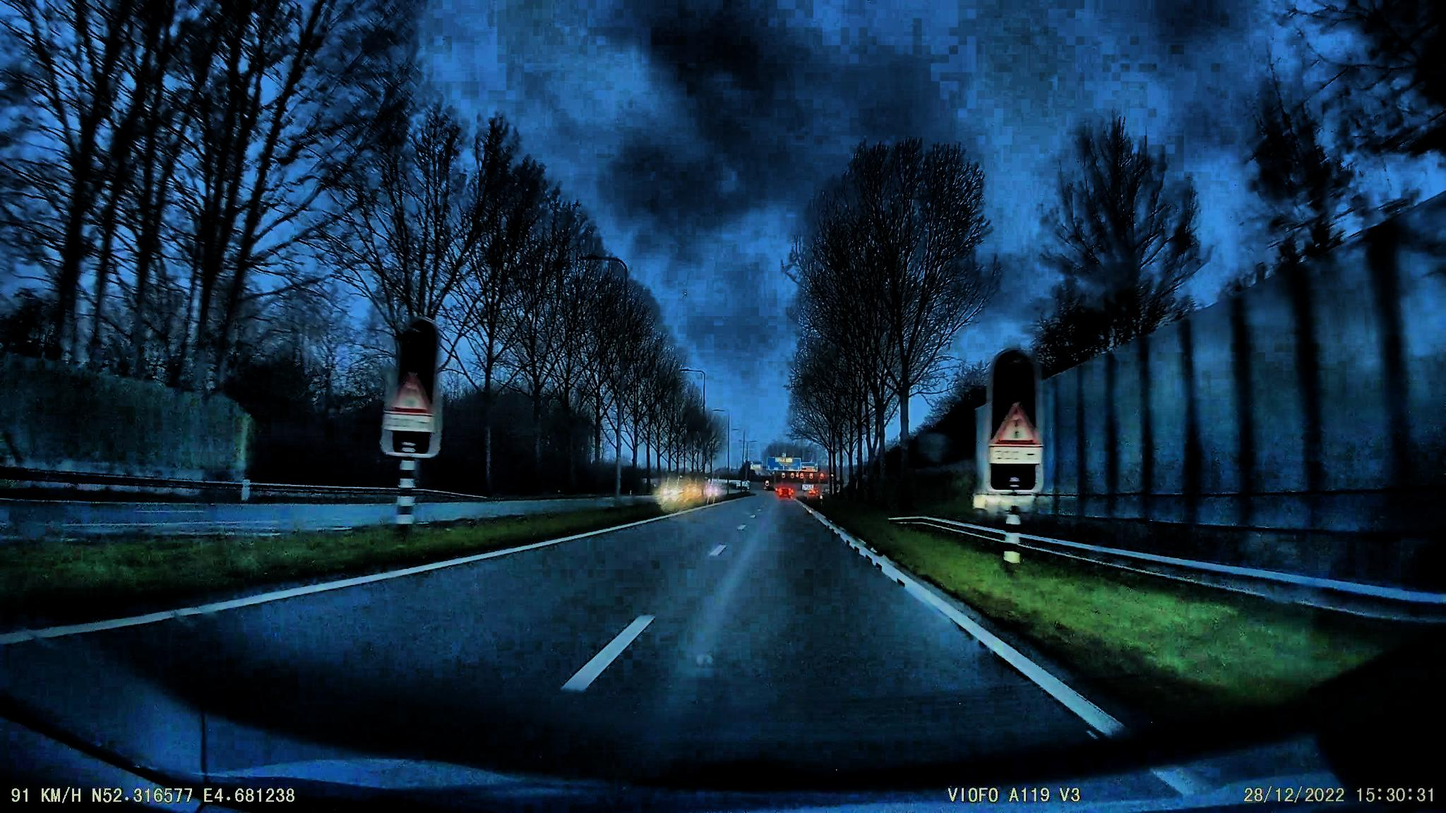Roads: (0, 498, 1153, 813)
